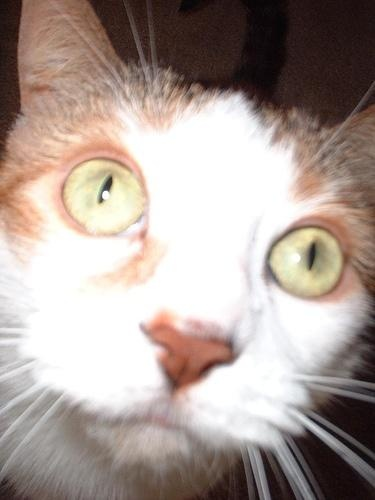cat: (3, 3, 375, 500)
